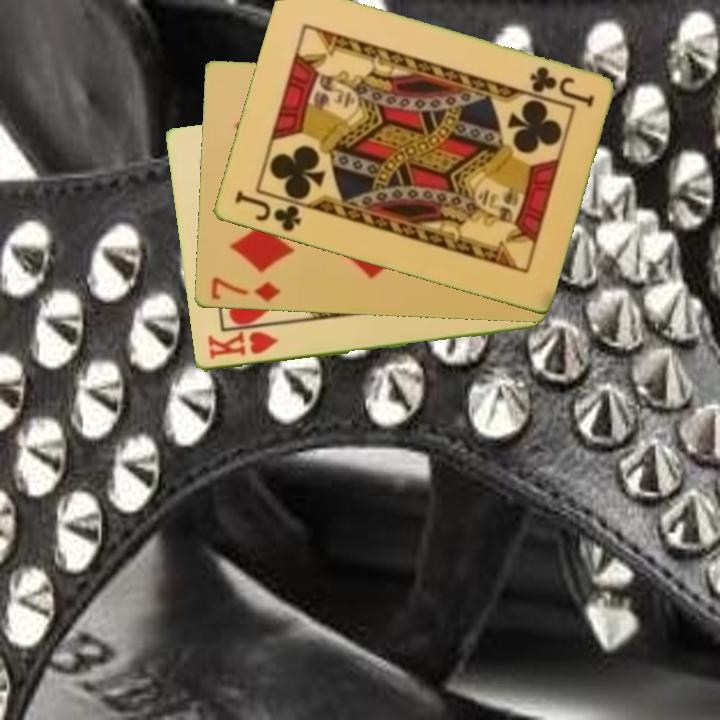7d: (207, 274, 283, 305)
Jc: (230, 187, 304, 235), (525, 63, 597, 110)
Kh: (203, 328, 281, 363)
